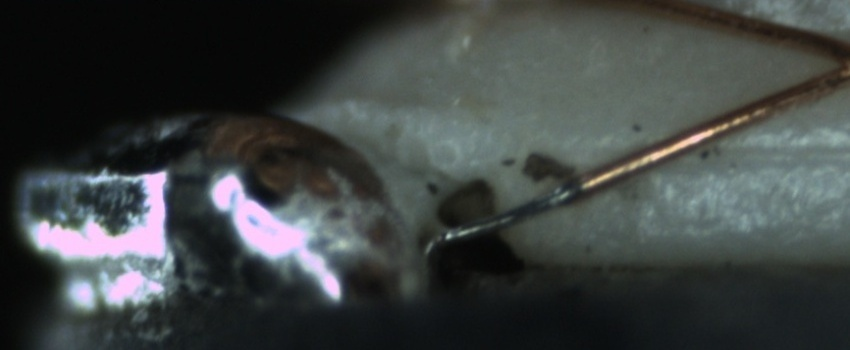DL: (673, 118, 849, 184)
TS: (435, 177, 583, 247)
TTCW: (436, 160, 618, 248)
